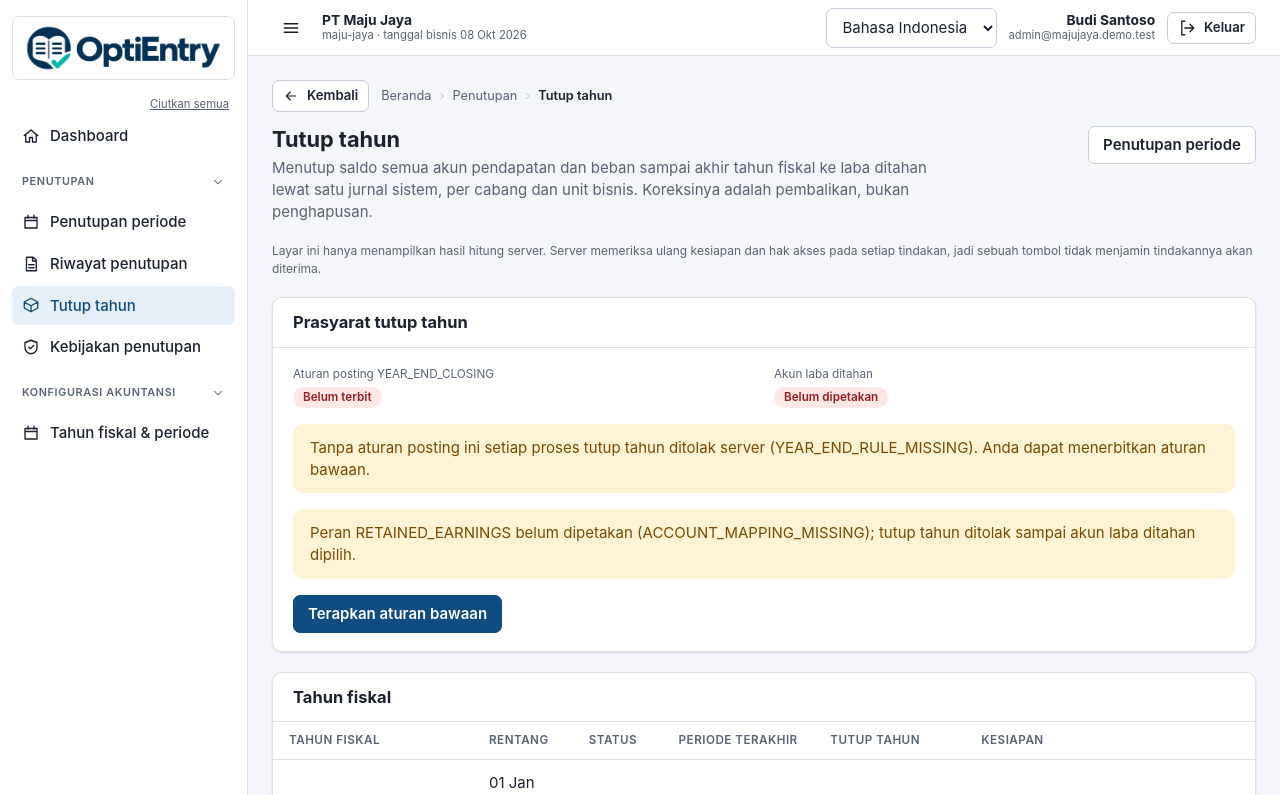
year end list › applies the default rule with an optional date and reads the status again
What coordinates should you click on to do the following:
click the button "Terapkan aturan bawaan"
I would click on:
 (398, 614)
Its box is [293,595,502,633].
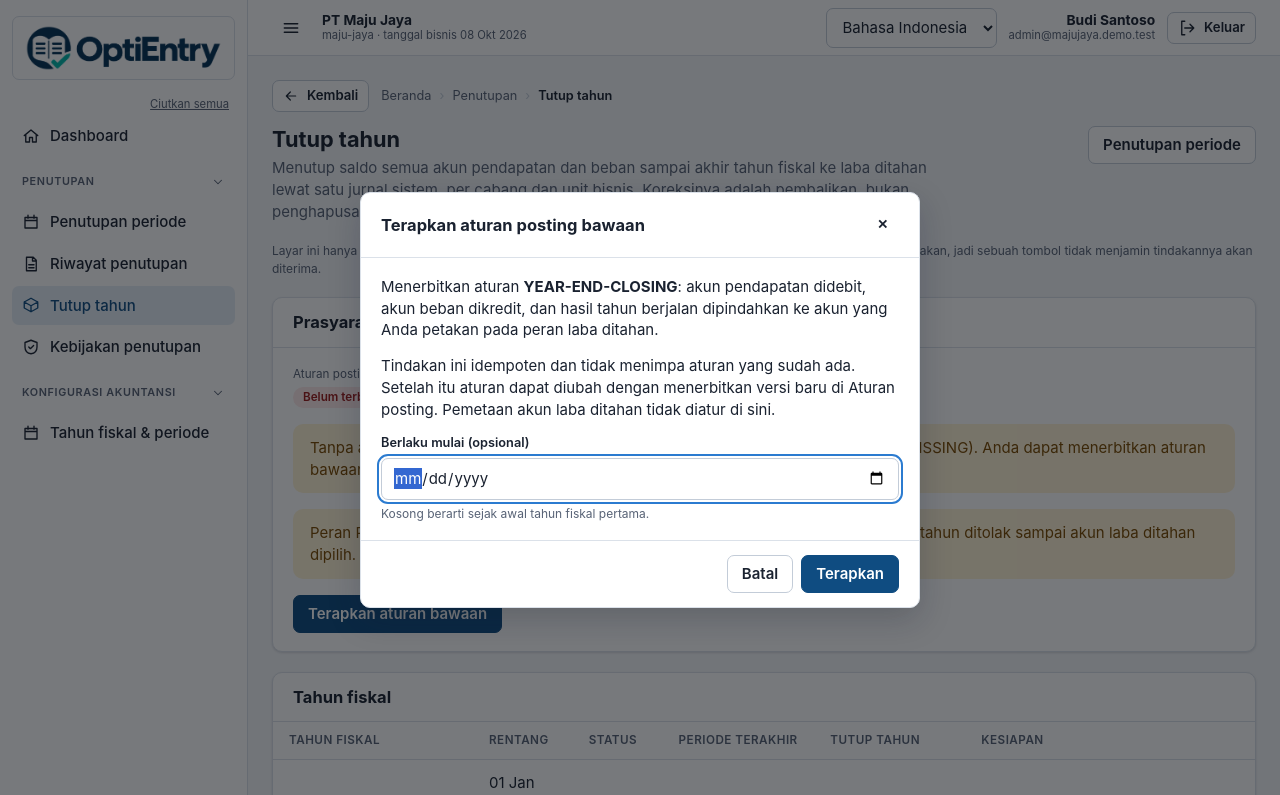
Expected: the text "idempoten dan tidak menimpa aturan yang sudah ada" is shown, [381,356,895,419]
What coordinates should you click on to do the following:
click the button "Terapkan"
I would click on:
 (850, 574)
Its box is [801,555,899,593].
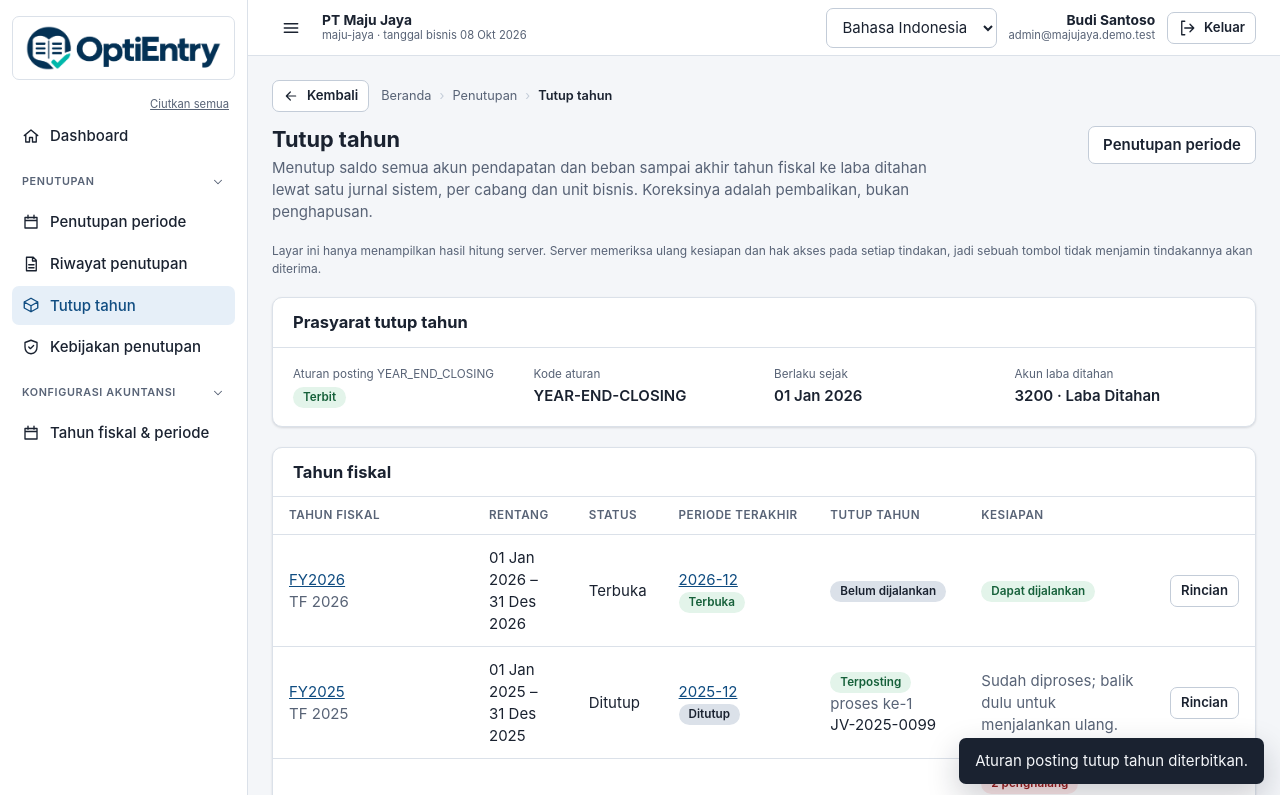
Expected: the text "Terbit" is shown, [293,387,346,408]
Expected: the text "Aturan posting tutup tahun diterbitkan." is shown, [959,738,1264,784]
Expected: the button "Terapkan aturan bawaan" is gone
